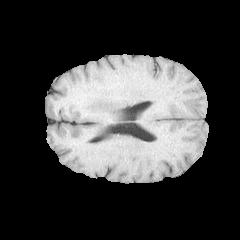glioma: (84, 94, 122, 115)
